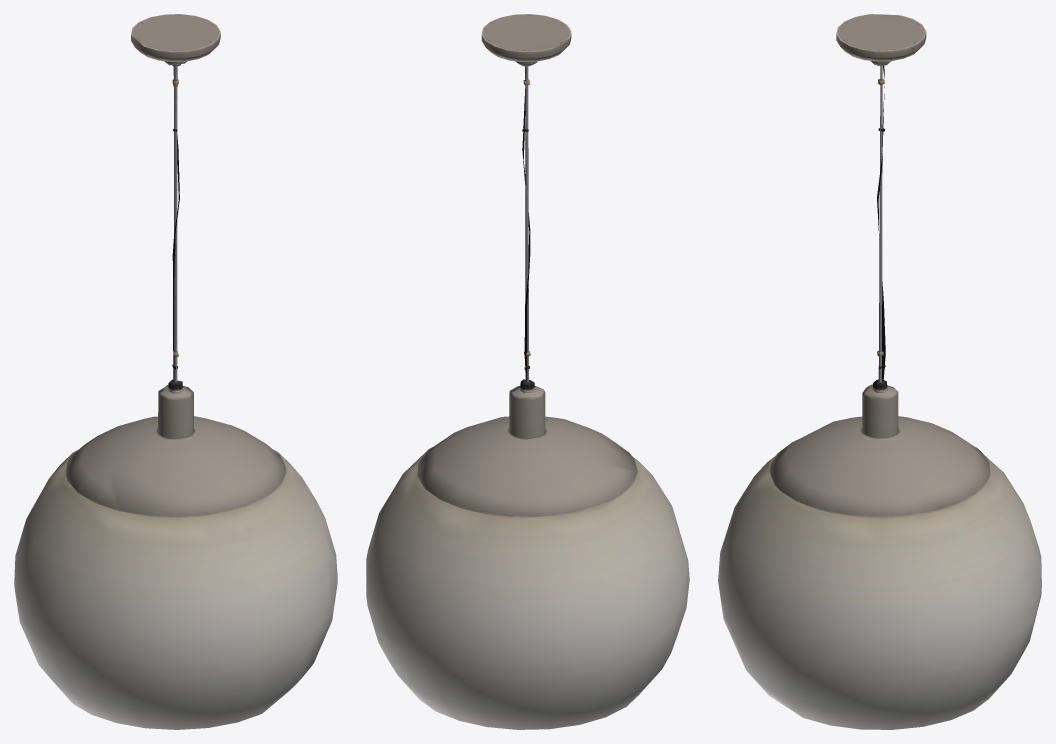
File: pendant.mid.glb
The picture shows the model from 3 angles, left to right: view 1: azimuth 30°, elevation 25°; view 2: azimuth 150°, elevation 25°; view 3: azimuth 270°, elevation 25°; orthographic projection.
Parts seen in each view (by area): view 1: modern_ceiling_lamp_01; view 2: modern_ceiling_lamp_01; view 3: modern_ceiling_lamp_01.
Boxes of the visible parts, x1,y1,x2,y2 form: modern_ceiling_lamp_01: [14, 14, 337, 729]; modern_ceiling_lamp_01: [366, 14, 689, 729]; modern_ceiling_lamp_01: [718, 14, 1041, 729].
Bounding box in the file's own units: 0.4316 × 0.9512 × 0.4306.
2 materials, 2 textured.
